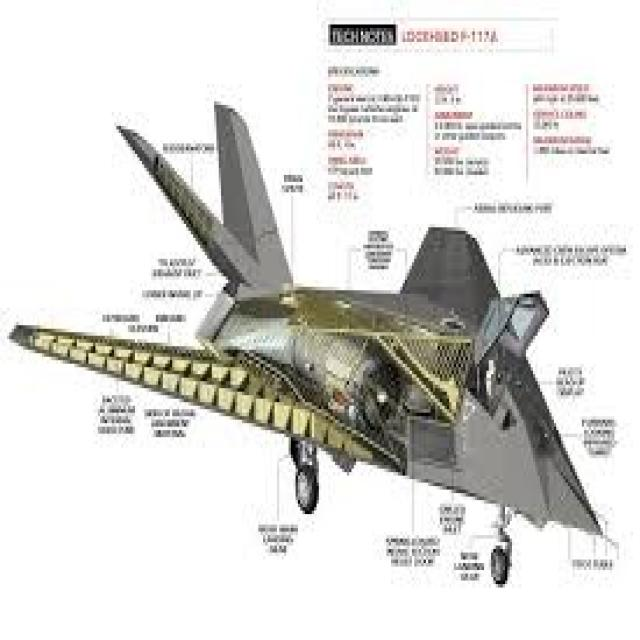F117: (13, 106, 625, 581)
